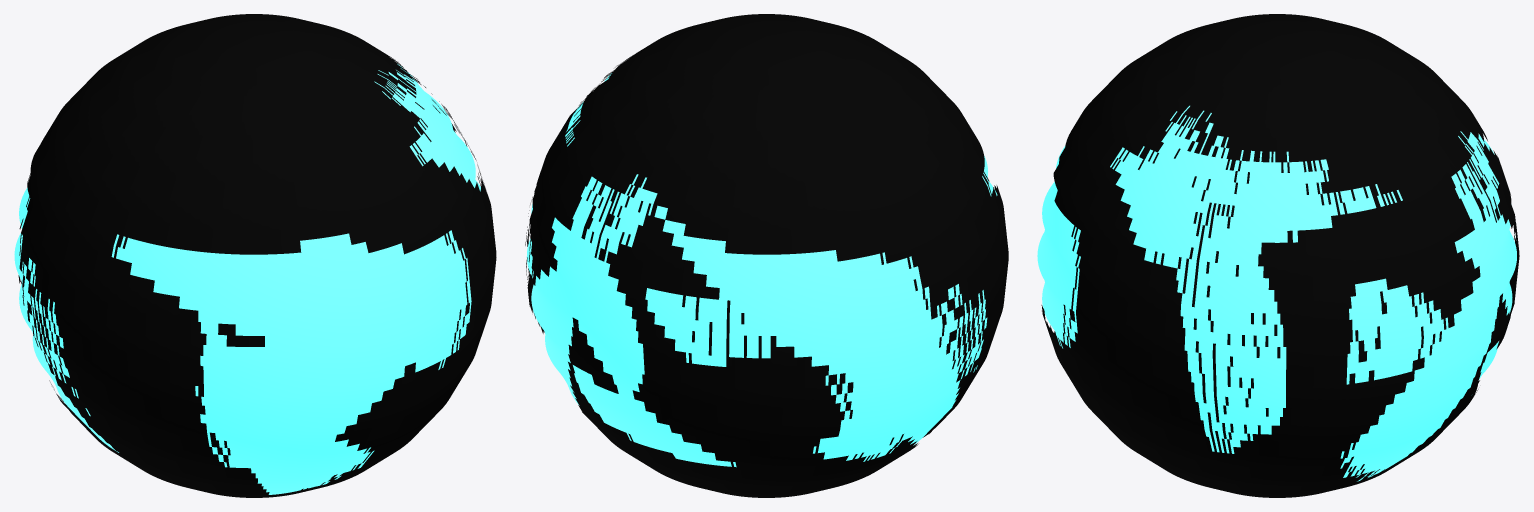
3 views of the same model, side by side, from view 1: azimuth 30°, elevation 25°; view 2: azimuth 150°, elevation 25°; view 3: azimuth 270°, elevation 25° (orthographic).
Parts seen in each view (by area): view 1: Sphere.001, Sphere; view 2: Sphere.001, Sphere; view 3: Sphere.001, Sphere.
Part boxes in pixels (<box>): Sphere.001: <box>18,14,496,497</box>; Sphere: <box>14,64,480,494</box>; Sphere.001: <box>525,14,1008,497</box>; Sphere: <box>526,73,997,467</box>; Sphere.001: <box>1041,14,1519,497</box>; Sphere: <box>1037,105,1516,481</box>.
Bounding box in the file's own units: 20.2 × 20.2 × 20.1.
